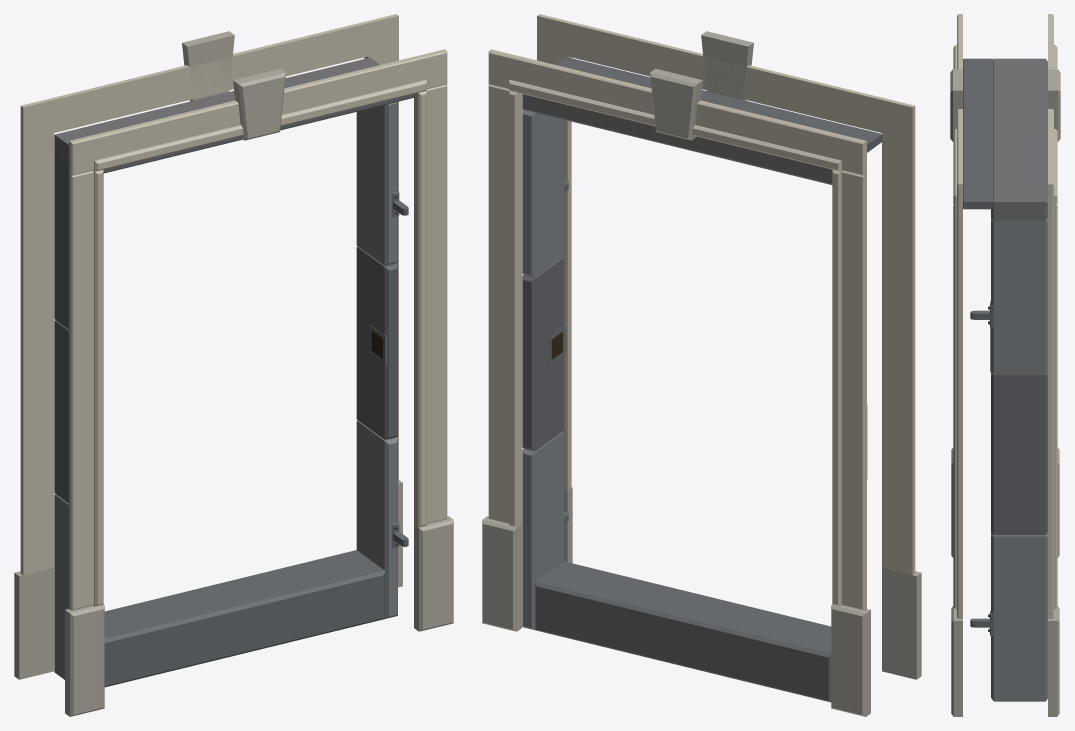
Rendered from SM_LPD_Door_DoorFrameStone_01.fbx.
3 renders of one model, left to right at view 1: azimuth 30°, elevation 25°; view 2: azimuth 150°, elevation 25°; view 3: azimuth 270°, elevation 25°, orthographic. The views are drawn at different scales.
Visible parts, largest first — view 1: SM_LPD_Door_DoorFrameStone_01; view 2: SM_LPD_Door_DoorFrameStone_01; view 3: SM_LPD_Door_DoorFrameStone_01.
Boxes of the visible parts, x1,y1,x2,y2 form: SM_LPD_Door_DoorFrameStone_01: (14,14,453,716); SM_LPD_Door_DoorFrameStone_01: (482,14,921,716); SM_LPD_Door_DoorFrameStone_01: (950,14,1060,716).
Bounding box in the file's own units: 1.94 × 2.86 × 0.52.
